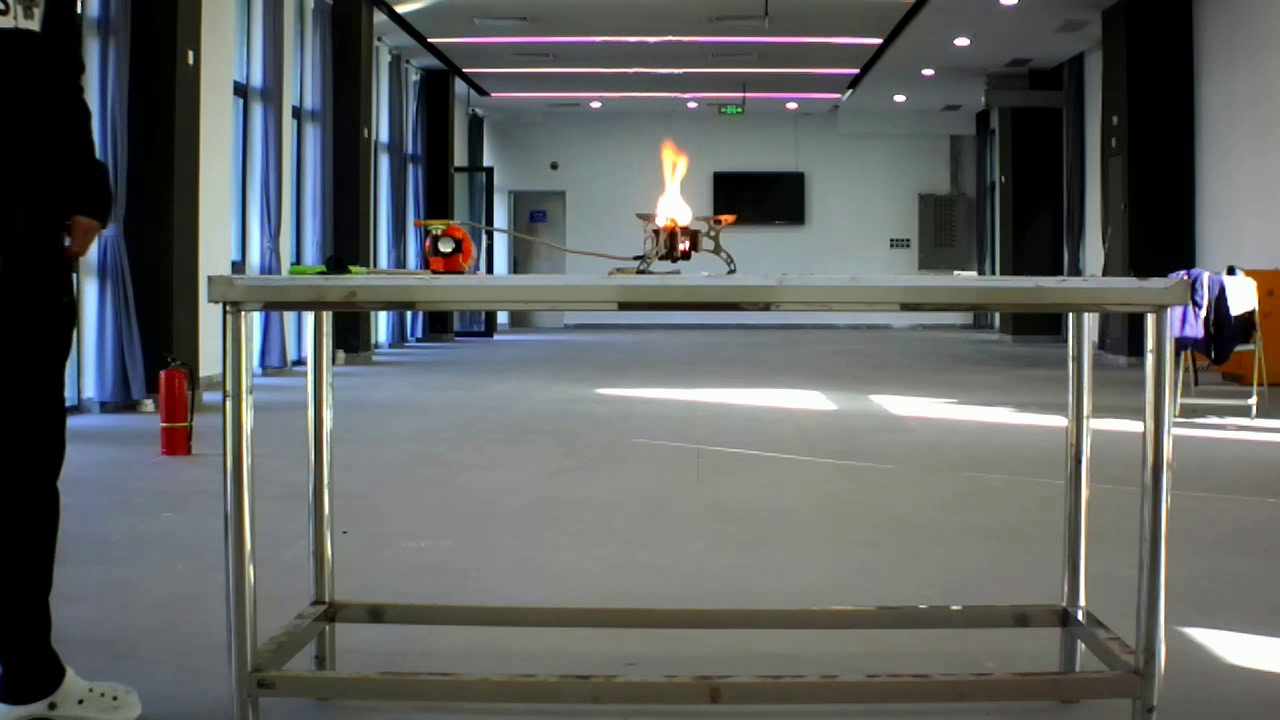Fire: (635, 129, 739, 263)
